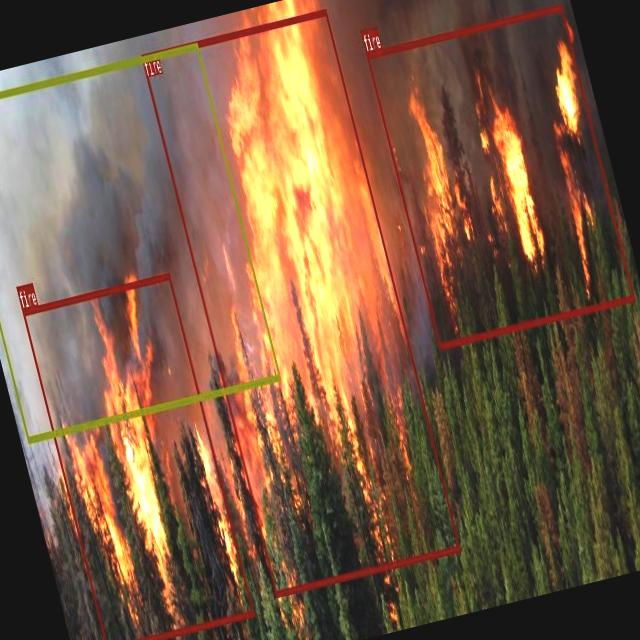fire: (140, 8, 460, 596), (365, 3, 635, 348), (21, 271, 254, 640)
smoke: (0, 40, 280, 441)
